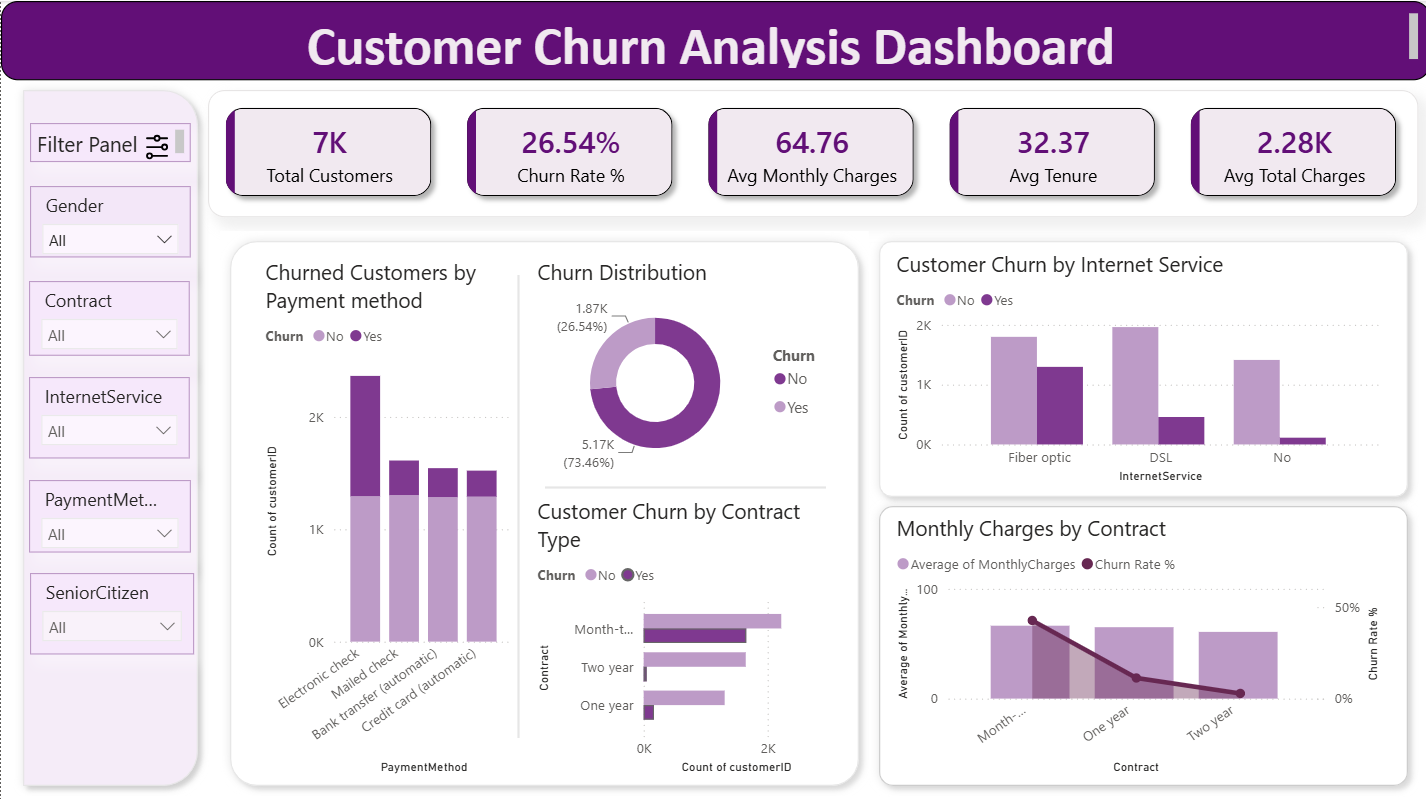

What the dashboard file says about the page in this screenshot:
{"tool":"powerbi","page":{"name":"Page 1","canvas":[1280,720],"ordinal":0},"visuals":[{"type":"textbox","box":[0,0,1279.7,70.7],"z":0},{"type":"cardVisual","fields":{"Data":["Cleaned_Telco_Customer_Churn.Total Customers","Cleaned_Telco_Customer_Churn.Churn Rate %","Cleaned_Telco_Customer_Churn.Average Monthly Charges","Cleaned_Telco_Customer_Churn.Average Tenure","Cleaned_Telco_Customer_Churn.Average Total Charges"]},"box":[185.4,79.7,1083.6,113.7],"z":1000},{"type":"shape","box":[196.1,206,581.2,506],"z":2000},{"type":"donutChart","title":"Churn Distribution","fields":{"Category":["Cleaned_Telco_Customer_Churn.Churn"],"Y":["CountNonNull(Cleaned_Telco_Customer_Churn.customerID)"]},"box":[475.5,230.1,278.5,198.8],"z":3000},{"type":"clusteredBarChart","title":"Customer Churn by Contract Type","fields":{"Category":["Cleaned_Telco_Customer_Churn.Contract"],"Y":["CountNonNull(Cleaned_Telco_Customer_Churn.customerID)"],"Series":["Cleaned_Telco_Customer_Churn.Churn"]},"box":[475.5,444.2,278.5,252.5],"z":4000},{"type":"columnChart","title":"Churned Customers by Payment method","fields":{"Category":["Cleaned_Telco_Customer_Churn.PaymentMethod"],"Y":["CountNonNull(Cleaned_Telco_Customer_Churn.customerID)"],"Series":["Cleaned_Telco_Customer_Churn.Churn"]},"box":[231.9,230.1,231.9,466.6],"z":5000},{"type":"shape","box":[777.3,206,491.6,247.2],"z":6000},{"type":"shape","box":[10.7,70.7,174.6,641.2],"z":7000},{"type":"clusteredColumnChart","title":"Customer Churn by Internet Service","fields":{"Category":["Cleaned_Telco_Customer_Churn.InternetService"],"Y":["CountNonNull(Cleaned_Telco_Customer_Churn.customerID)"],"Series":["Cleaned_Telco_Customer_Churn.Churn"]},"box":[797,223,442.4,213.1],"z":8000},{"type":"shape","box":[777.3,443.3,491.6,268.7],"z":9000},{"type":"lineClusteredColumnComboChart","title":"Monthly Charges by Contract","fields":{"Y2":["Cleaned_Telco_Customer_Churn.Churn Rate %"],"Category":["Cleaned_Telco_Customer_Churn.Contract"],"Y":["Avg(Cleaned_Telco_Customer_Churn.MonthlyCharges)"]},"box":[797,459.4,442.4,237.3],"z":10000},{"type":"slicer","fields":{"Values":["Cleaned_Telco_Customer_Churn.gender"]},"box":[26,165.7,144.2,64.5],"z":11000},{"type":"slicer","fields":{"Values":["Cleaned_Telco_Customer_Churn.Contract"]},"box":[25.1,250.7,144.2,67.2],"z":12000},{"type":"slicer","fields":{"Values":["Cleaned_Telco_Customer_Churn.InternetService"]},"box":[25.1,336.7,144.2,72.5],"z":13000},{"type":"slicer","fields":{"Values":["Cleaned_Telco_Customer_Churn.PaymentMethod"]},"box":[25.1,429,145.1,65.4],"z":14000},{"type":"slicer","fields":{"Values":["Cleaned_Telco_Customer_Churn.SeniorCitizen"]},"box":[26,512.2,146.9,72.5],"z":15000},{"type":"textbox","box":[26,109.3,144.2,34.9],"z":16000},{"type":"image","box":[126.3,117.3,27.8,26.9],"z":16001},{"type":"shape","box":[487.2,418.2,251.6,34.9],"z":16002},{"type":"shape","box":[443.3,245.4,40.3,414.6],"z":16003}]}

Visuals, with their boxes in screenshot pixels (x1, y1, x2, y2), scaled from the page's 1280x720 canvas onto the 1426x799 screenshot:
textbox: detection(0, 0, 1425, 78)
cardVisual - Cleaned_Telco_Customer_Churn.Total Customers x Cleaned_Telco_Customer_Churn.Churn Rate %: detection(207, 88, 1414, 215)
shape: detection(218, 229, 866, 790)
"Churn Distribution" donutChart: detection(530, 255, 840, 476)
"Customer Churn by Contract Type" clusteredBarChart: detection(530, 493, 840, 773)
"Churned Customers by Payment method" columnChart: detection(258, 255, 517, 773)
shape: detection(866, 229, 1414, 503)
shape: detection(12, 78, 206, 790)
"Customer Churn by Internet Service" clusteredColumnChart: detection(888, 247, 1381, 484)
shape: detection(866, 492, 1414, 790)
"Monthly Charges by Contract" lineClusteredColumnComboChart: detection(888, 510, 1381, 773)
slicer - Cleaned_Telco_Customer_Churn.gender: detection(29, 184, 190, 255)
slicer - Cleaned_Telco_Customer_Churn.Contract: detection(28, 278, 189, 353)
slicer - Cleaned_Telco_Customer_Churn.InternetService: detection(28, 374, 189, 454)
slicer - Cleaned_Telco_Customer_Churn.PaymentMethod: detection(28, 476, 190, 549)
slicer - Cleaned_Telco_Customer_Churn.SeniorCitizen: detection(29, 568, 193, 649)
textbox: detection(29, 121, 190, 160)
image: detection(141, 130, 172, 160)
shape: detection(543, 464, 823, 503)
shape: detection(494, 272, 539, 732)
